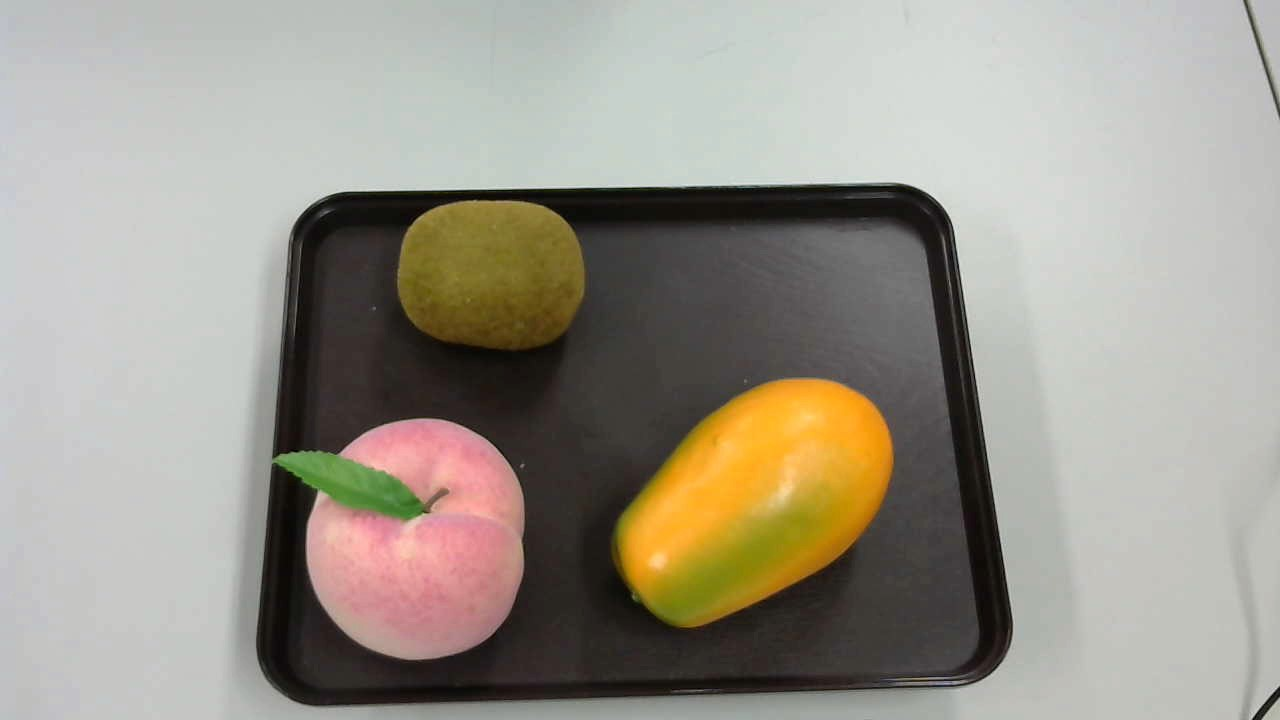kiwi fruit: (393, 199, 591, 350)
papya: (600, 371, 900, 641)
peach: (272, 412, 528, 663)
